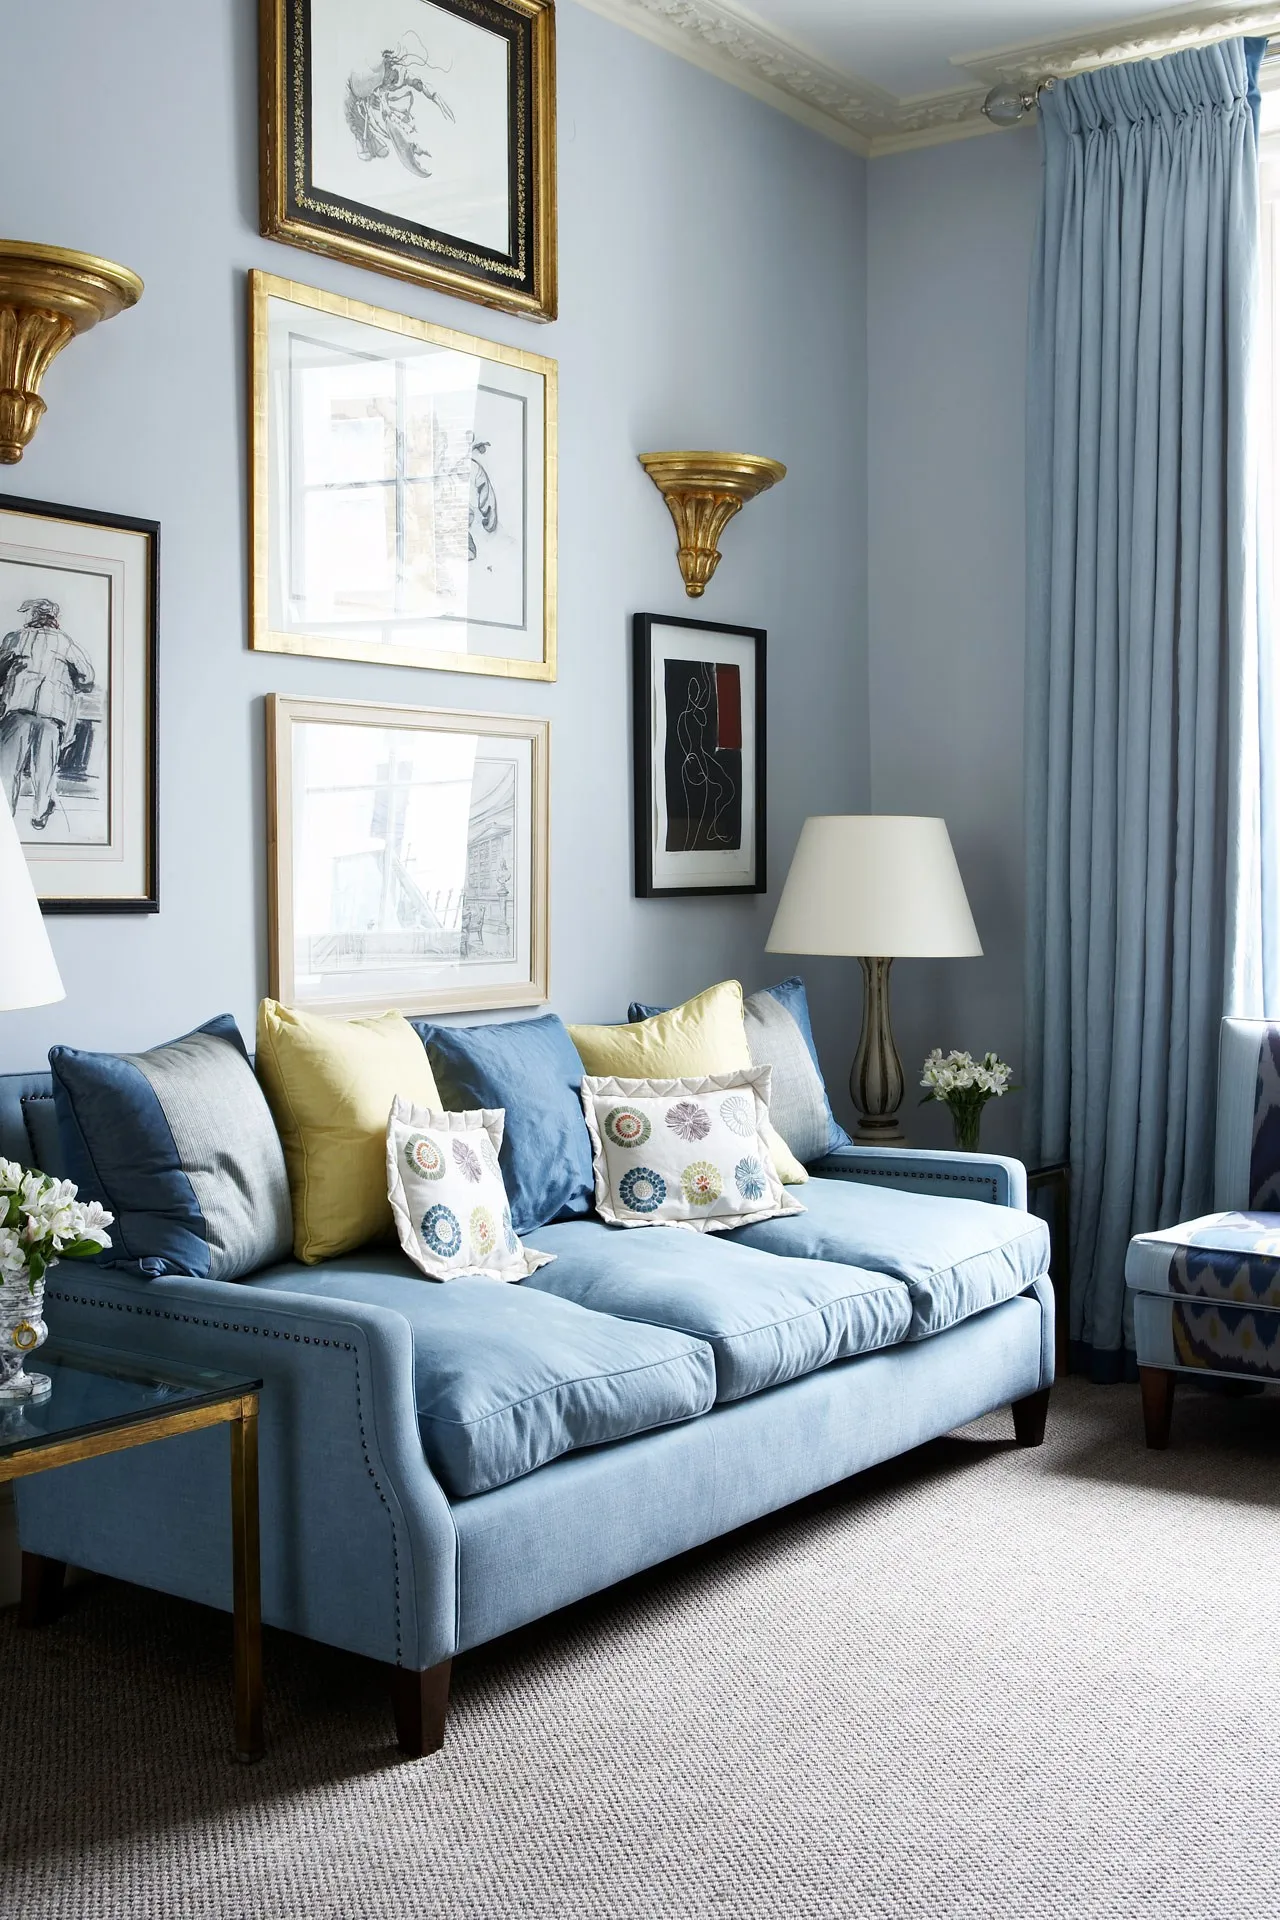flower vase: (0, 1134, 116, 1416), (914, 1017, 1021, 1159)
side table: (6, 1354, 294, 1793)
sofa: (0, 969, 1069, 1759)
table lamp: (771, 794, 993, 1129)
wall art: (223, 267, 566, 684), (246, 0, 577, 331), (241, 677, 566, 1006), (0, 481, 181, 929), (611, 599, 777, 907)
